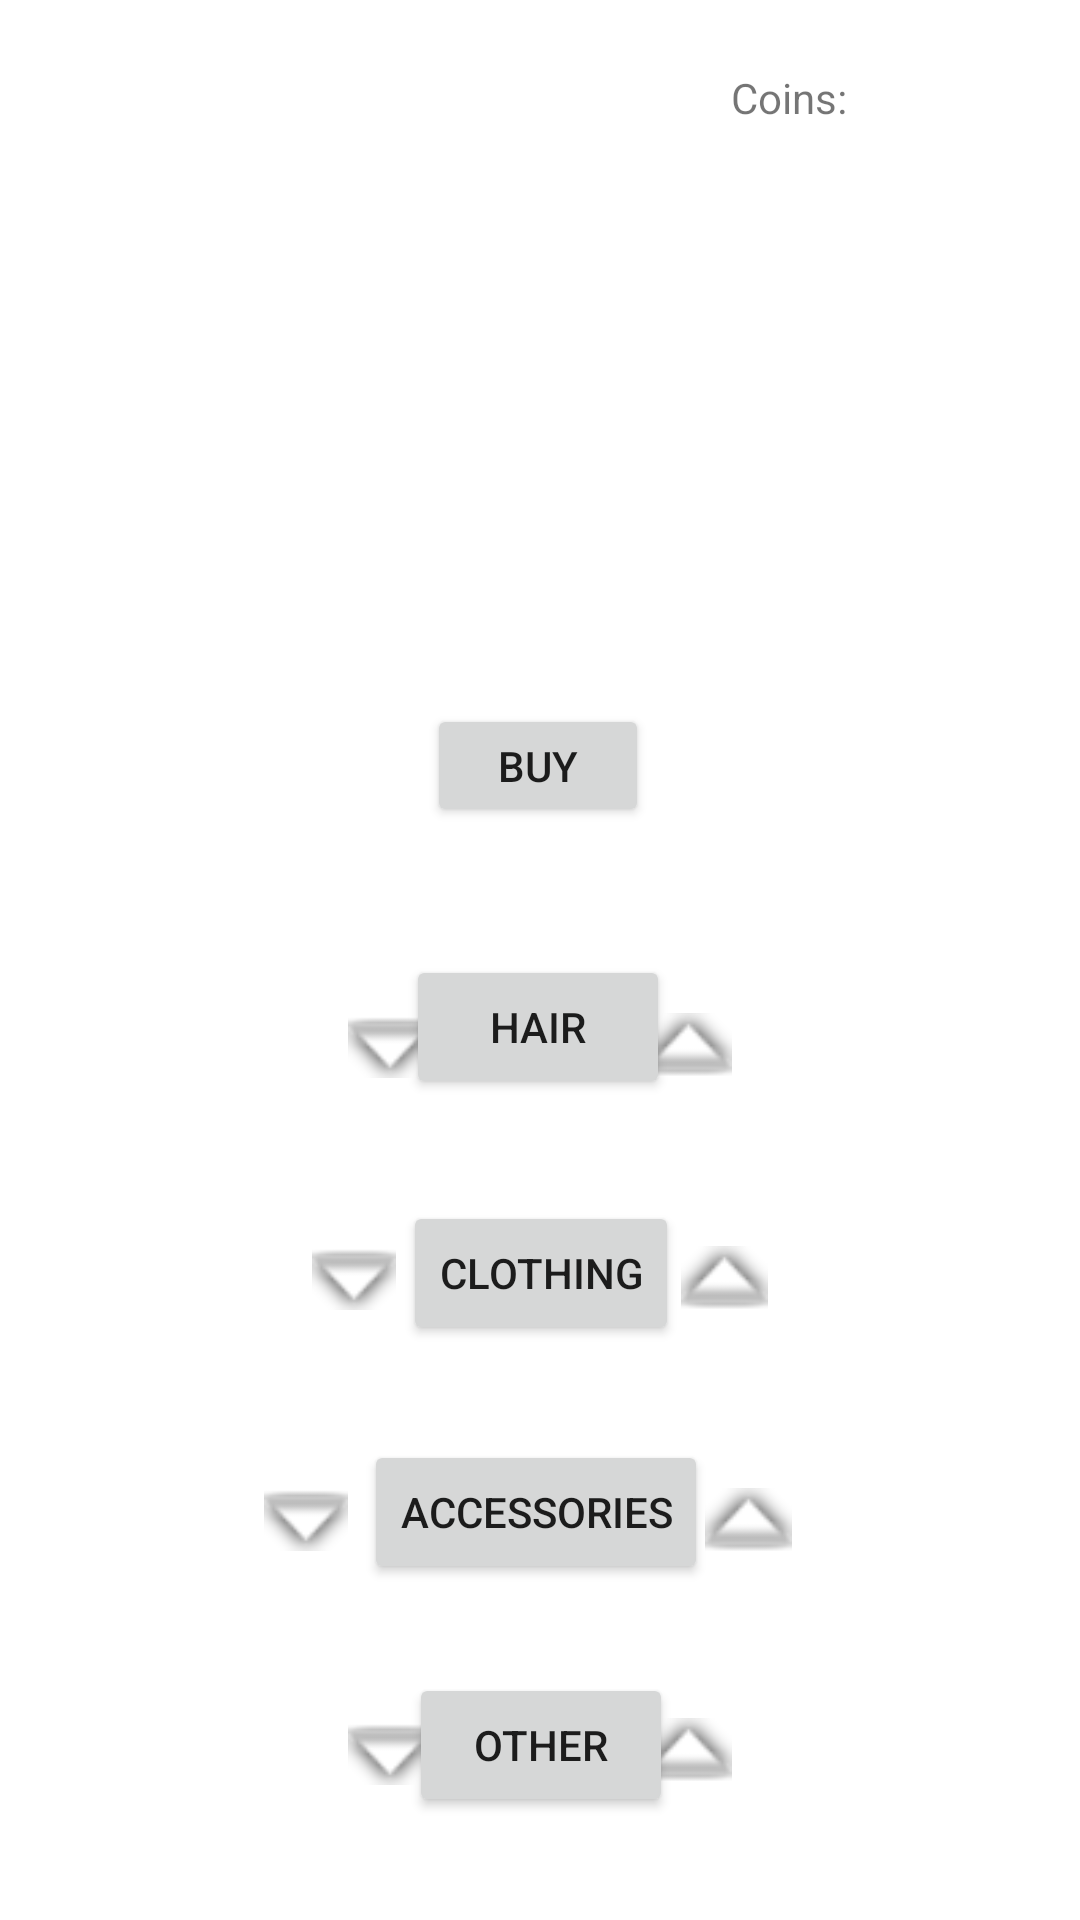

Icon click points for this 1080px×1920px phone screenshot, format (x,y):
arrow down float: (390,1047), (354,1279), (306,1520), (390,1754)
arrow up float: (688,1045), (724,1277), (748,1519), (688,1750)
